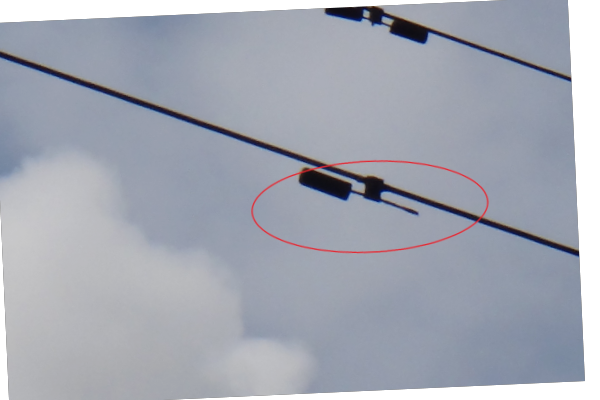damper: (324, 5, 432, 47)
damper_defect: (297, 166, 422, 218)
